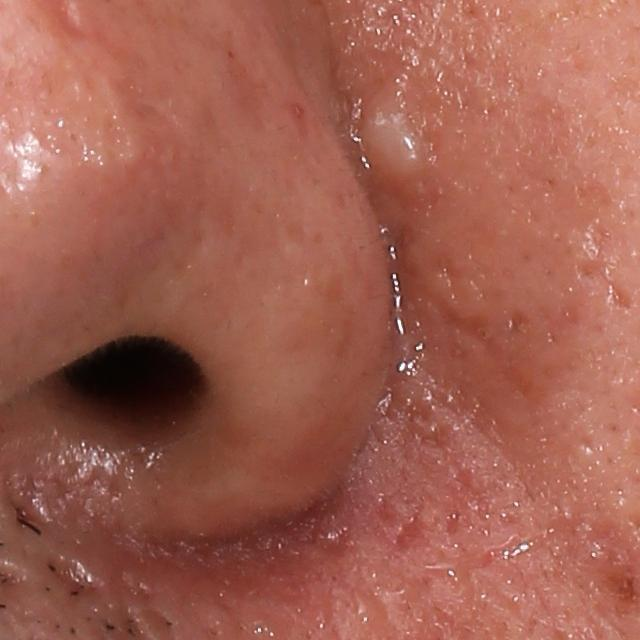atrophic_scar: (116, 73, 175, 133), (46, 553, 102, 596), (5, 480, 51, 529), (310, 511, 359, 554), (390, 513, 430, 552), (575, 258, 609, 285), (606, 280, 630, 313)
pustule: (356, 91, 441, 196)
